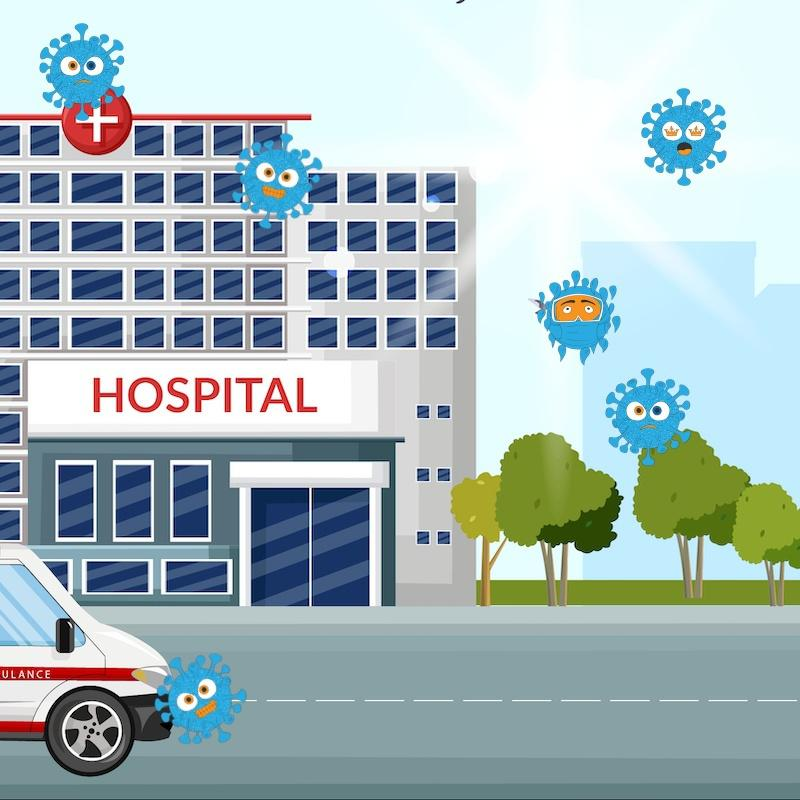corona1: (237, 135, 322, 223)
corona2: (37, 21, 130, 121), (599, 373, 696, 467)
corona4: (634, 95, 732, 185)
doctor: (531, 271, 619, 362)
